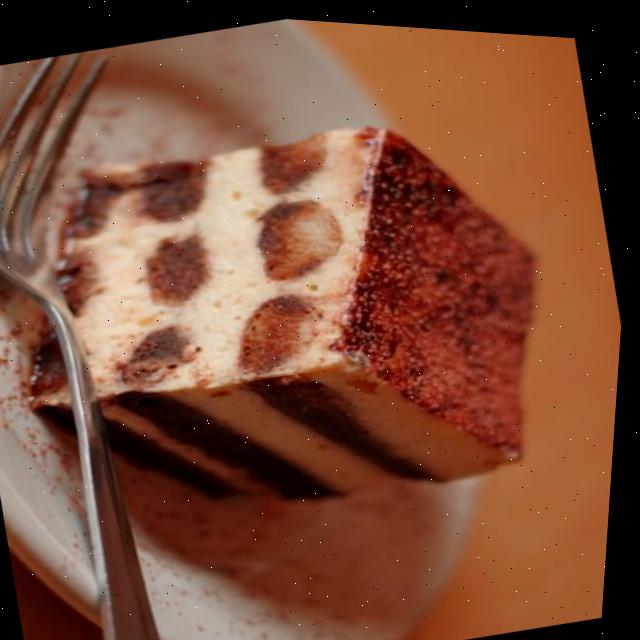蛋糕甜品: (0, 25, 623, 622)
